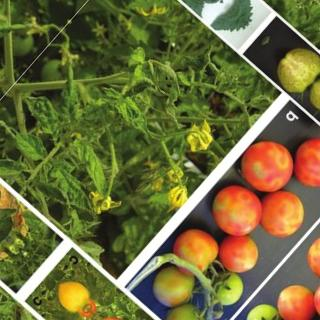Tomato leaf mosaic virus: (60, 136, 119, 193), (41, 160, 99, 216), (14, 85, 70, 139), (8, 124, 53, 168), (0, 147, 32, 190)
